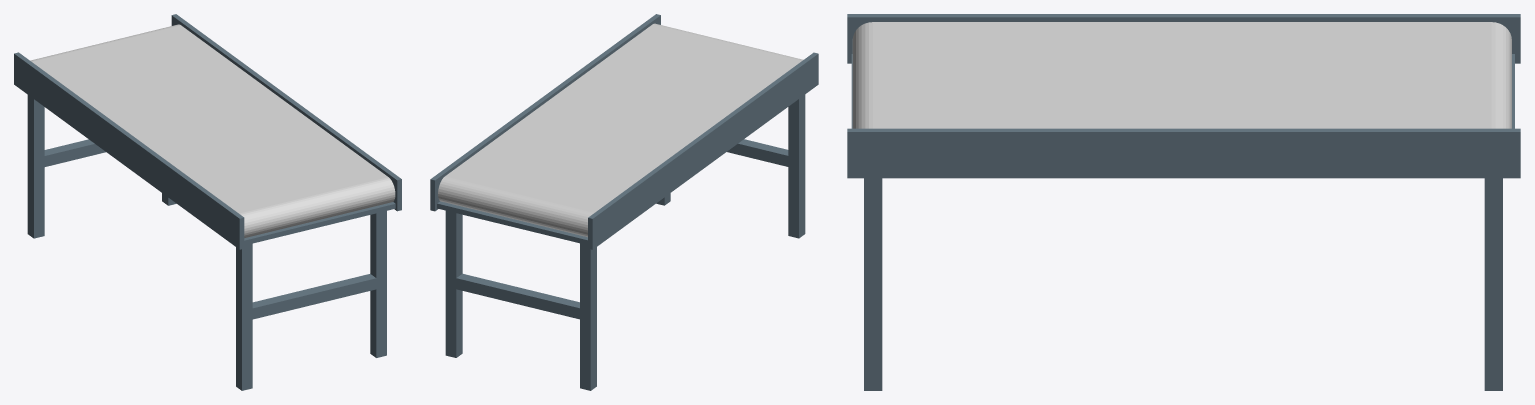
The model's file is Conveyor_1600x600x600_Joined.fbx.
3 views of the same model, side by side, from view 1: azimuth 30°, elevation 25°; view 2: azimuth 150°, elevation 25°; view 3: azimuth 270°, elevation 25° (orthographic). The views are drawn at different scales.
Parts seen in each view (by area): view 1: Cylinder, Structure; view 2: Cylinder, Structure; view 3: Cylinder, Structure.
Part boxes in pixels (x1,y1,x2,y2): Cylinder: (30, 24, 395, 238); Structure: (14, 14, 401, 390); Cylinder: (438, 23, 803, 237); Structure: (430, 14, 818, 390); Cylinder: (852, 22, 1511, 128); Structure: (847, 14, 1520, 390).
Size of the model in its own units: 68.47 by 71.86 by 165.
